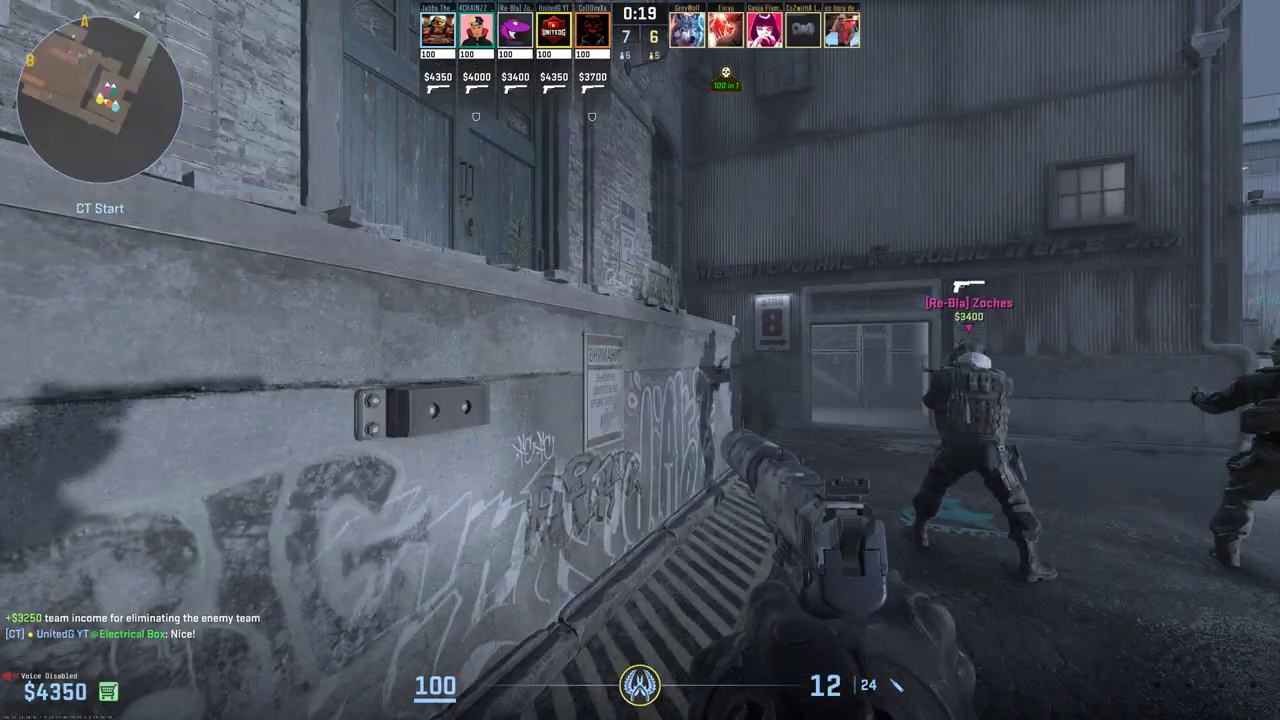CT: (926, 340, 1048, 578), (1200, 336, 1280, 567)
